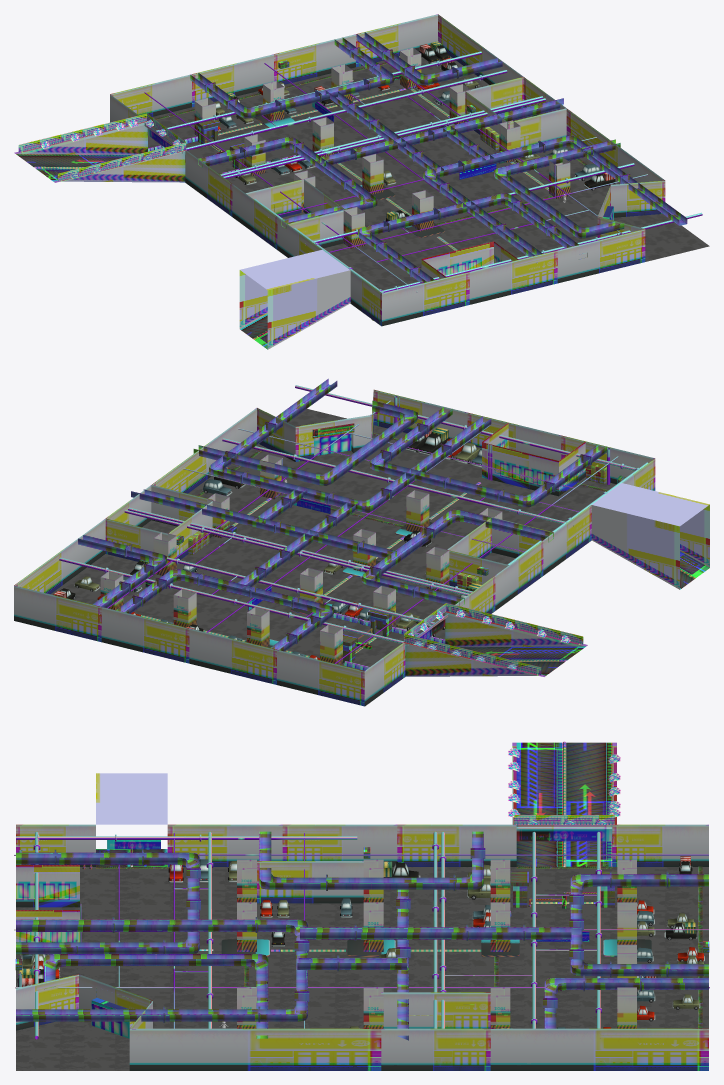
Rendered from ham de xe.FBX.
3 renders of one model, top to bottom at view 1: azimuth 30°, elevation 25°; view 2: azimuth 150°, elevation 25°; view 3: azimuth 270°, elevation 25°, orthographic. The views are drawn at different scales.
Parts seen in each view (by area): view 1: Plane001, Plane002, Plane012, Box024, Plane011, Box023, Plane014, Plane004, Plane010, Object072, Box022, Plane009 (+16 smaller); view 2: Plane001, Plane002, Plane012, Plane011, Box022, Plane010, Plane014, Box023, Plane004, Box024, Object072, Plane009 (+20 smaller); view 3: Plane001, Plane002, Plane012, Plane011, Plane004, Box022, Plane010, Plane014, Object070, Box023, Box024, Plane009 (+28 smaller).
Boxes of the visible parts, x1,y1,x2,y2 form: Plane001: (14, 14, 665, 349); Plane002: (148, 56, 709, 326); Plane012: (423, 136, 687, 256); Box024: (246, 179, 344, 248); Plane011: (358, 193, 578, 282); Box023: (465, 77, 566, 147); Plane014: (494, 139, 624, 238); Plane004: (190, 37, 393, 118); Plane010: (198, 137, 377, 228); Object072: (320, 98, 563, 166); Box022: (421, 241, 518, 278); Plane009: (356, 32, 502, 85); Plane001: (14, 389, 709, 706); Plane002: (51, 409, 615, 706); Plane012: (209, 378, 491, 512); Plane011: (370, 407, 606, 507); Box022: (482, 423, 585, 496); Plane010: (362, 509, 553, 606); Plane014: (193, 400, 417, 485); Box023: (105, 485, 213, 561); Plane004: (116, 569, 333, 651); Box024: (447, 517, 553, 586); Object072: (131, 489, 396, 560); Plane009: (78, 535, 166, 607); Plane001: (16, 741, 708, 1070); Plane002: (16, 867, 708, 1070); Plane012: (16, 919, 307, 1021); Plane011: (16, 852, 199, 954); Plane004: (570, 874, 708, 976); Box022: (16, 865, 79, 942); Plane010: (259, 831, 483, 889); Plane014: (44, 954, 268, 1038); Object070: (300, 927, 581, 939); Box023: (381, 992, 490, 1028); Box024: (257, 861, 363, 903); Plane009: (544, 978, 708, 1028).
Bounding box in the file's own units: 15869 × 2174 × 16031.
